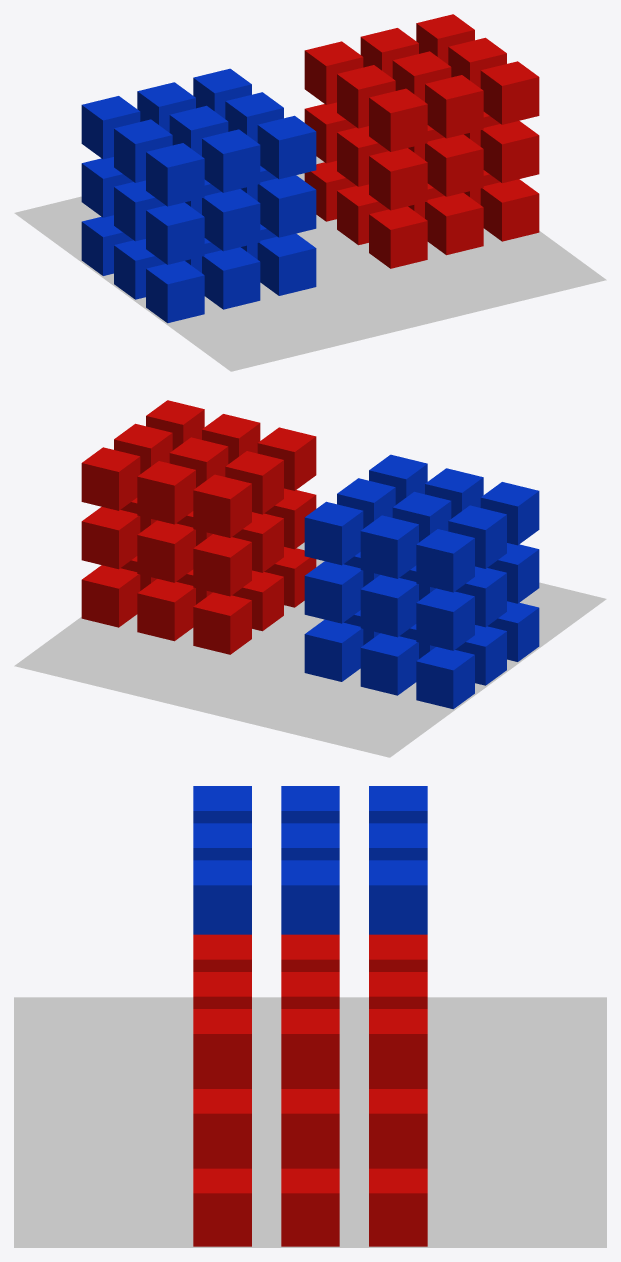
File: autobatch.gltf
The picture shows the model from 3 angles, top to bottom: view 1: azimuth 30°, elevation 25°; view 2: azimuth 150°, elevation 25°; view 3: azimuth 270°, elevation 25°; orthographic projection. The views are drawn at different scales.
Visible parts, largest first — view 1: Plane, Cube.035, Cube.051, Cube.053, Cube.033, Cube.008, Cube.015, Cube.026, Cube.042, Cube.052, Cube.034, Cube.006 (+27 smaller); view 2: Plane, Cube.030, Cube.045, Cube.047, Cube.032, Cube.003, Cube.009, Cube.021, Cube.036, Cube.046, Cube.031, Cube.005 (+27 smaller); view 3: Plane, Cube.011, Cube.014, Cube.017, Cube.038, Cube.041, Cube.044, Cube.047, Cube.050, Cube.053, Cube.027, Cube.032 (+13 smaller).
Part boxes in pixels (box(x1,y1,x2,y2)): Plane: box(14, 156, 606, 371); Cube.035: box(146, 143, 204, 206); Cube.051: box(369, 88, 427, 151); Cube.053: box(480, 61, 539, 124); Cube.033: box(257, 115, 316, 179); Cube.008: box(146, 261, 204, 323); Cube.015: box(369, 206, 427, 268); Cube.026: box(146, 202, 204, 264); Cube.042: box(369, 148, 427, 210); Cube.052: box(425, 75, 483, 138); Cube.034: box(202, 129, 260, 192); Cube.006: box(257, 233, 316, 295); Plane: box(14, 542, 606, 757); Cube.030: box(416, 529, 474, 592); Cube.045: box(193, 474, 251, 537); Cube.047: box(81, 447, 140, 510); Cube.032: box(304, 501, 363, 565); Cube.003: box(416, 647, 474, 709); Cube.009: box(193, 592, 251, 654); Cube.021: box(416, 588, 474, 650); Cube.036: box(193, 534, 251, 596); Cube.046: box(137, 461, 195, 524); Cube.031: box(360, 515, 418, 578); Cube.005: box(304, 619, 363, 681); Plane: box(14, 997, 606, 1247); Cube.011: box(369, 1168, 427, 1246); Cube.014: box(281, 1168, 339, 1246); Cube.017: box(193, 1168, 251, 1246); Cube.038: box(369, 1089, 427, 1166); Cube.041: box(281, 1089, 339, 1166); Cube.044: box(193, 1089, 251, 1166); Cube.047: box(369, 1009, 427, 1086); Cube.050: box(281, 1009, 339, 1086); Cube.053: box(193, 1009, 251, 1086); Cube.027: box(281, 860, 339, 934); Cube.032: box(369, 860, 427, 934).
Size of the model in its own units: 20.22 by 8 by 20.22.
